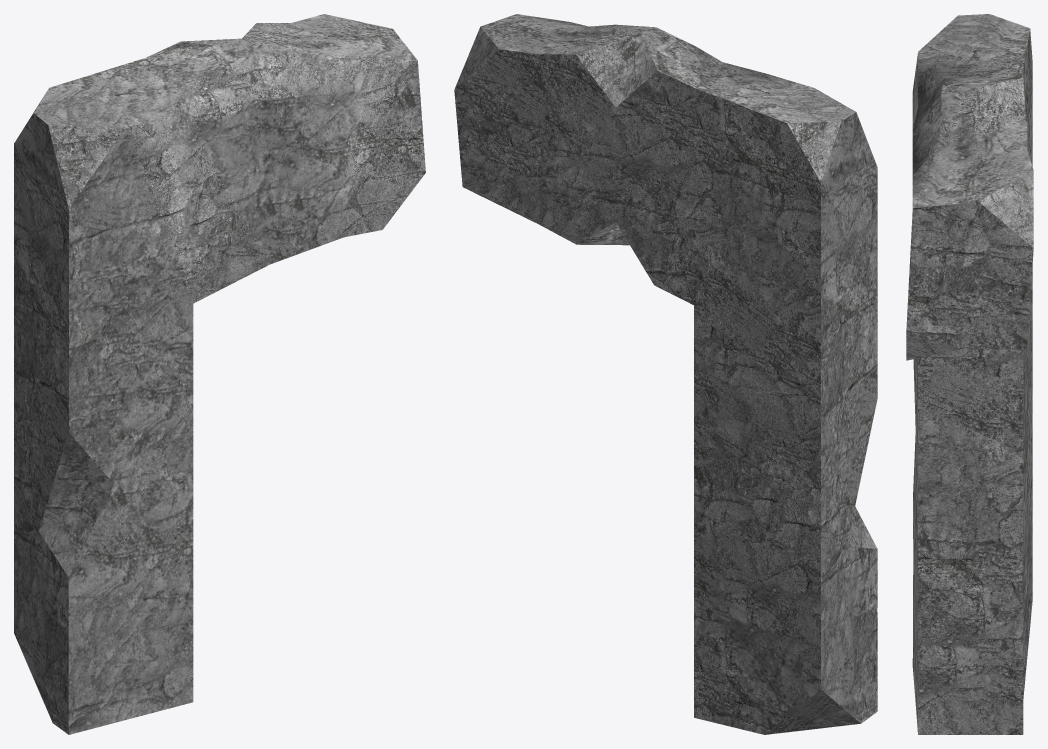
Rendered from materials_3_wall_5.fbx.
The picture shows the model from 3 angles, left to right: view 1: azimuth 30°, elevation 25°; view 2: azimuth 150°, elevation 25°; view 3: azimuth 270°, elevation 25°; orthographic projection. The views are drawn at different scales.
Visible parts, largest first — view 1: materials_3_wall_5; view 2: materials_3_wall_5; view 3: materials_3_wall_5.
Part boxes in pixels (box(x1,y1,x2,y2)): materials_3_wall_5: box(14, 14, 425, 734); materials_3_wall_5: box(454, 14, 877, 734); materials_3_wall_5: box(906, 14, 1033, 734).
Size of the model in its own units: 189 by 320 by 53.75.
